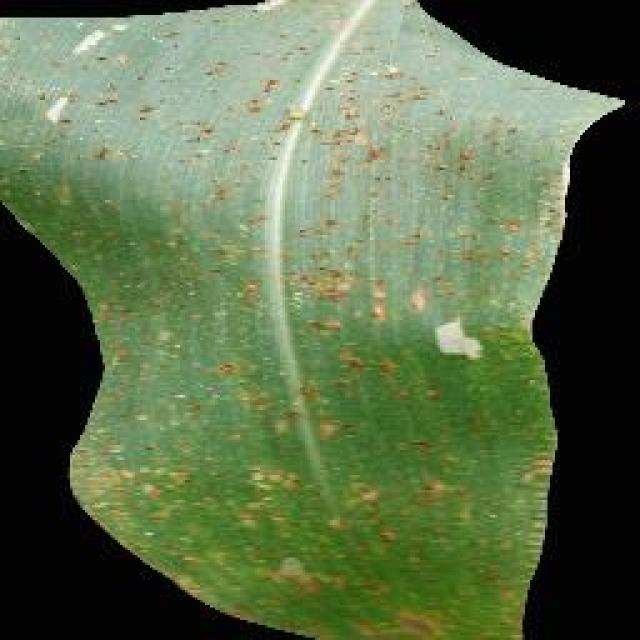Corn Common Rust: (62, 60, 475, 640)
